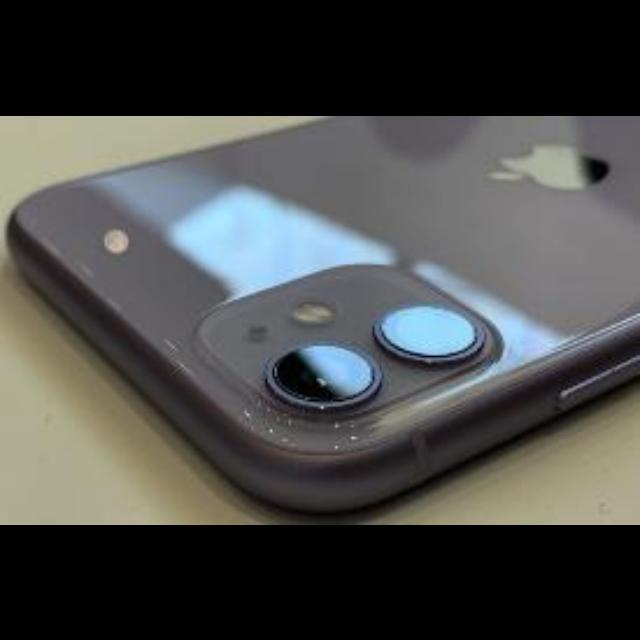PhoneUse: (6, 115, 640, 515)
